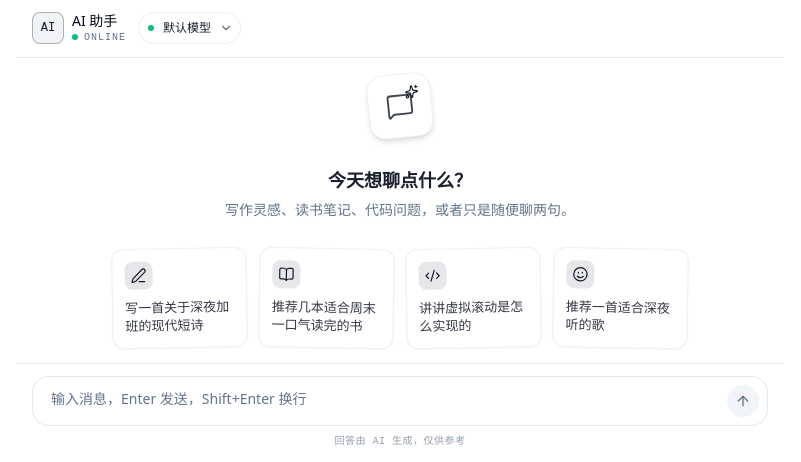
Test: AssistantChat › 发送后流式累加助手回复并收尾为完成态
Type "hi" into the text box named "消息输入".
click(384, 401); type("hi")  # box [49, 385, 719, 417]
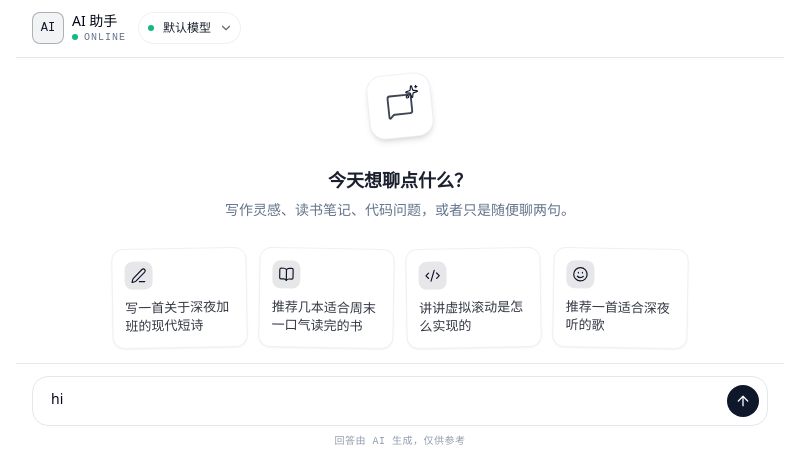
Click the button named "发送".
click(743, 401)  # box [727, 385, 759, 417]
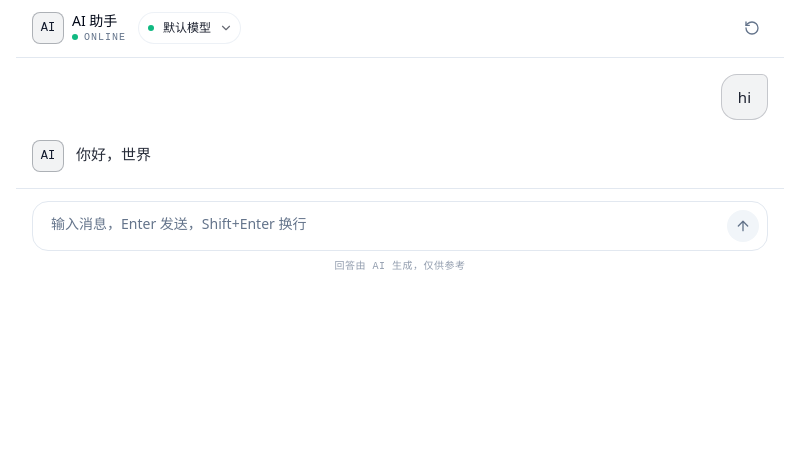
Expected: the text "你好，世界" is shown, [76, 144, 151, 164]
